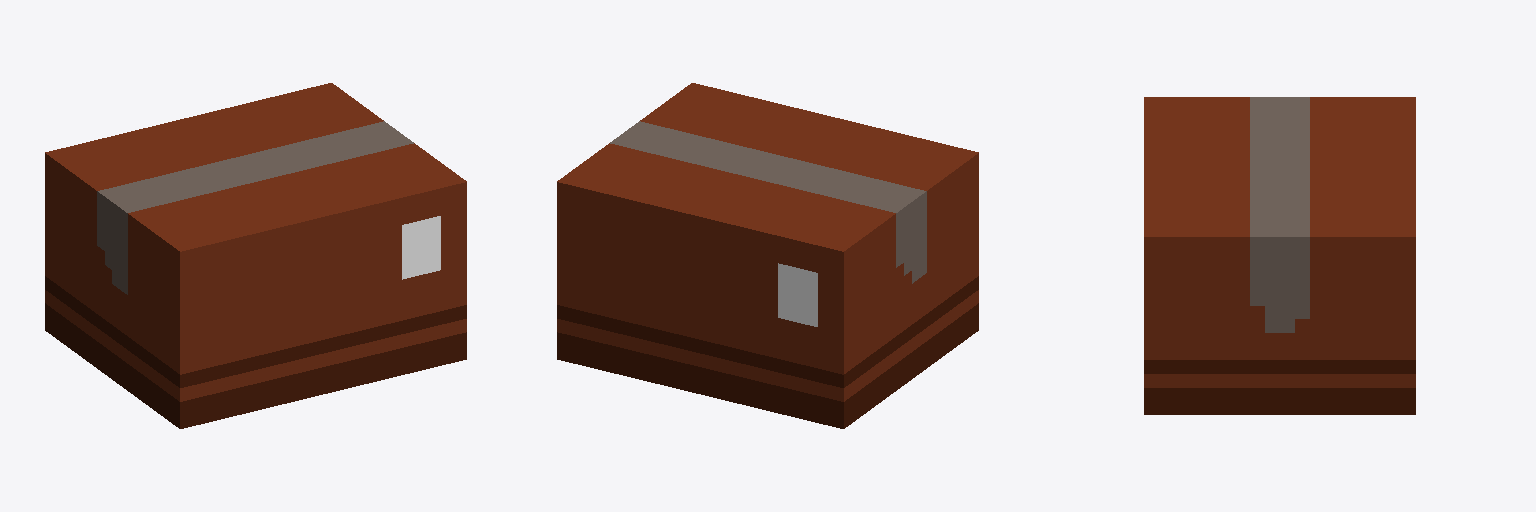
The picture shows the model from 3 angles: view 1: azimuth 30°, elevation 25°; view 2: azimuth 150°, elevation 25°; view 3: azimuth 270°, elevation 25°; orthographic projection.
Visible parts, largest first — view 1: object 1; view 2: object 1; view 3: object 1.
Part boxes in pixels (left/top/right/bottom): object 1: left=45, top=83, right=466, bottom=428; object 1: left=557, top=83, right=978, bottom=428; object 1: left=1144, top=97, right=1415, bottom=414.
Size of the model in its own units: 2.2 by 1.3 by 1.8.
Materials: 1 (1 with a texture image).